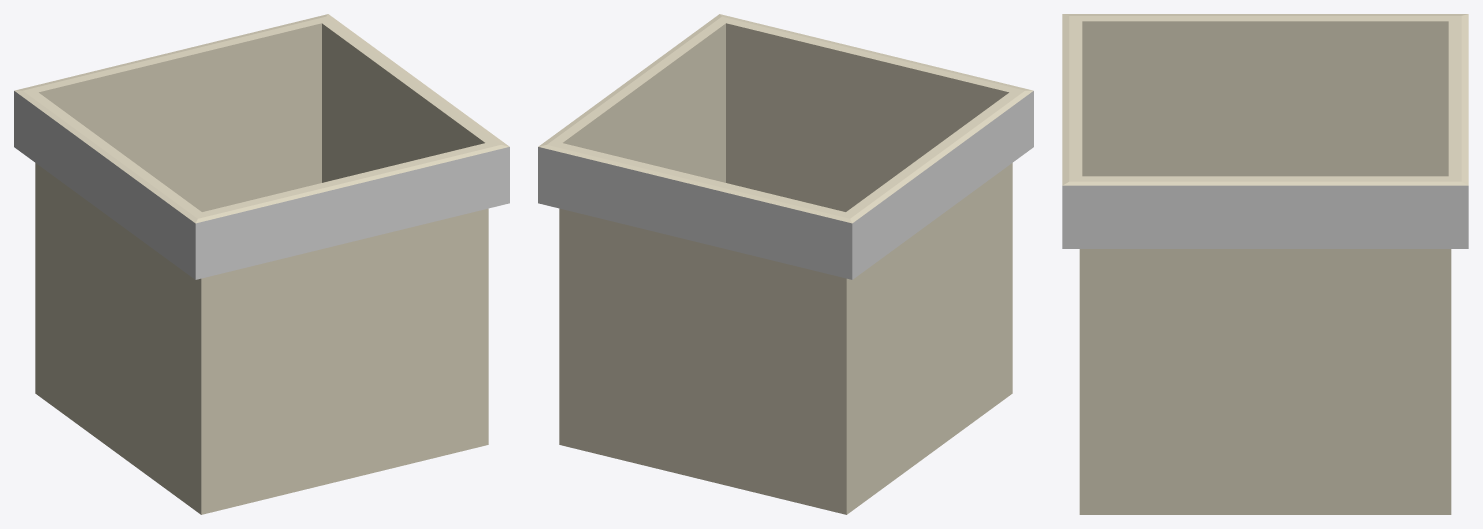
The model's file is crate-hole.fbx.
3 renders of one model, left to right at view 1: azimuth 30°, elevation 25°; view 2: azimuth 150°, elevation 25°; view 3: azimuth 270°, elevation 25°, orthographic. The views are drawn at different scales.
Visible parts, largest first — view 1: create-hole; view 2: create-hole; view 3: create-hole.
Part boxes in pixels (bbox=[...]): create-hole: bbox=[14, 14, 509, 514]; create-hole: bbox=[538, 14, 1033, 514]; create-hole: bbox=[1062, 14, 1468, 514].
Bounding box in the file's own units: 200 × 183 × 200.
